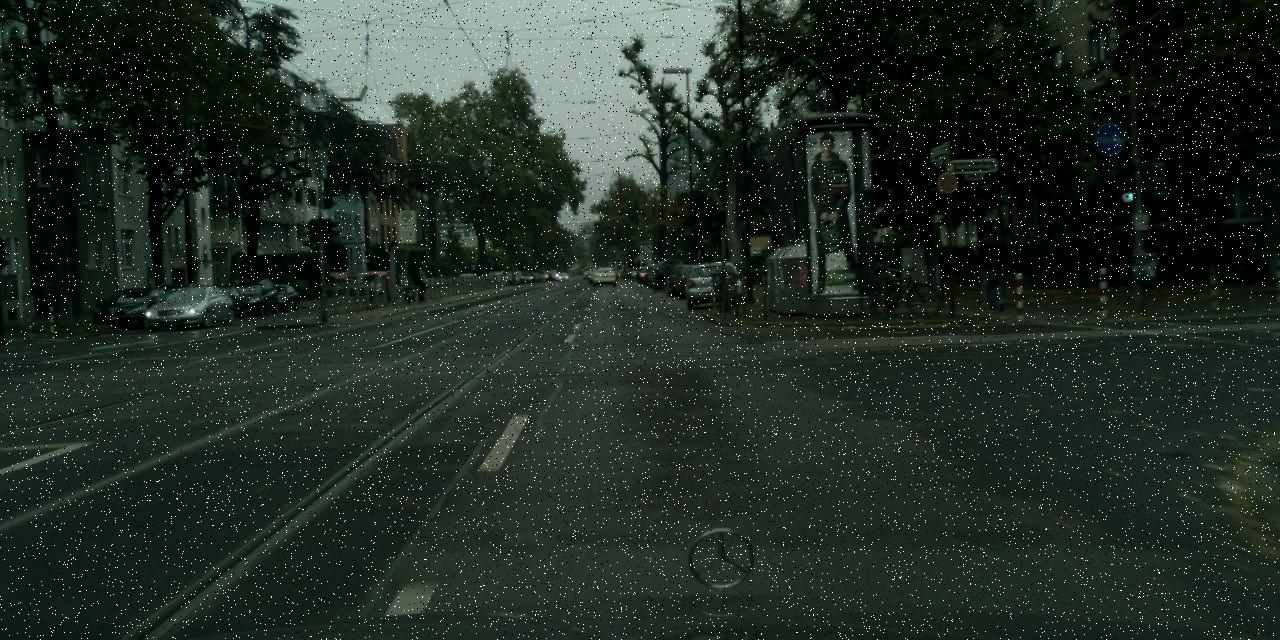ped: (977, 224, 1012, 310), (414, 262, 430, 302)
